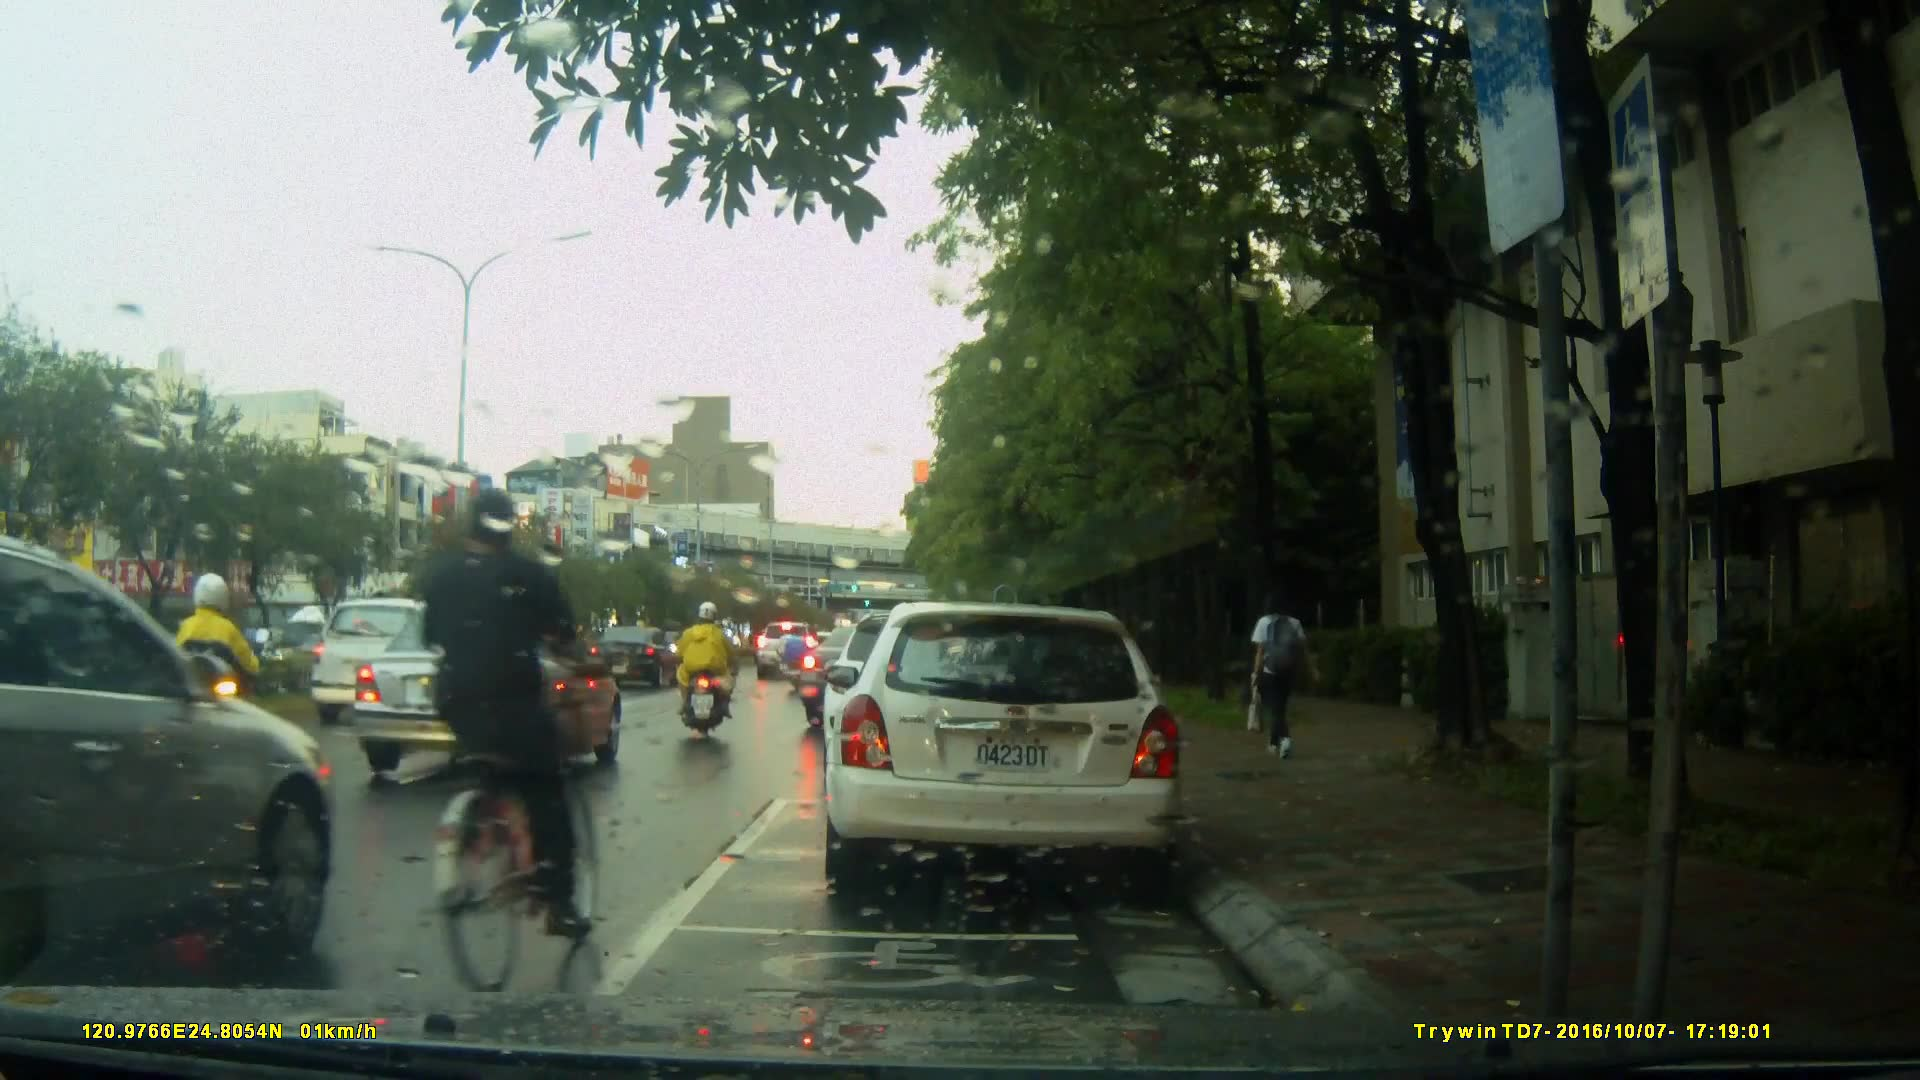pedestrian: (1250, 576, 1314, 762)
rider: (414, 489, 604, 988), (165, 578, 278, 809), (673, 596, 739, 747), (689, 614, 723, 704), (784, 620, 815, 702)
vehicle: (2, 530, 348, 987), (820, 602, 1188, 898), (354, 602, 636, 781), (309, 597, 509, 727), (583, 624, 685, 691)
